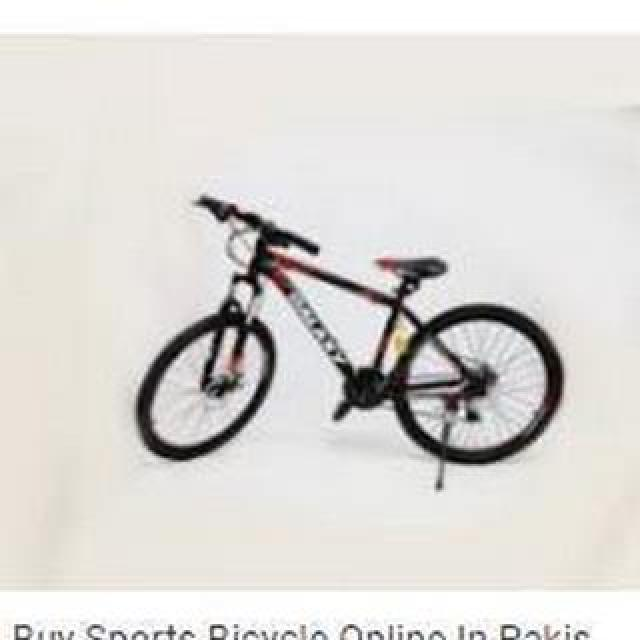Person: (136, 192, 566, 476)
